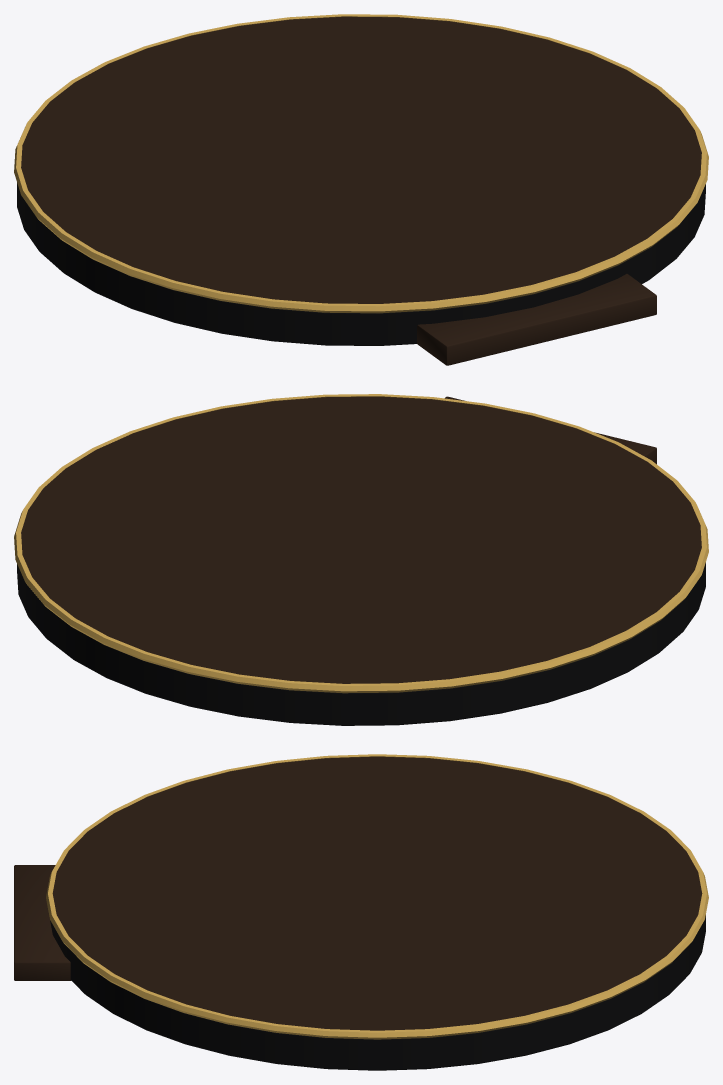
The model's file is tideline_stage.glb.
The picture shows the model from 3 angles, top to bottom: view 1: azimuth 30°, elevation 25°; view 2: azimuth 150°, elevation 25°; view 3: azimuth 270°, elevation 25°; orthographic projection. The views are drawn at different scales.
Visible parts, largest first — view 1: tideline_stage; view 2: tideline_stage; view 3: tideline_stage.
Part boxes in pixels (bbox=[...]): tideline_stage: bbox=[14, 14, 708, 365]; tideline_stage: bbox=[14, 394, 708, 725]; tideline_stage: bbox=[14, 754, 708, 1070].
Bounding box in the file's own units: 3.43 × 0.224 × 3.6.
